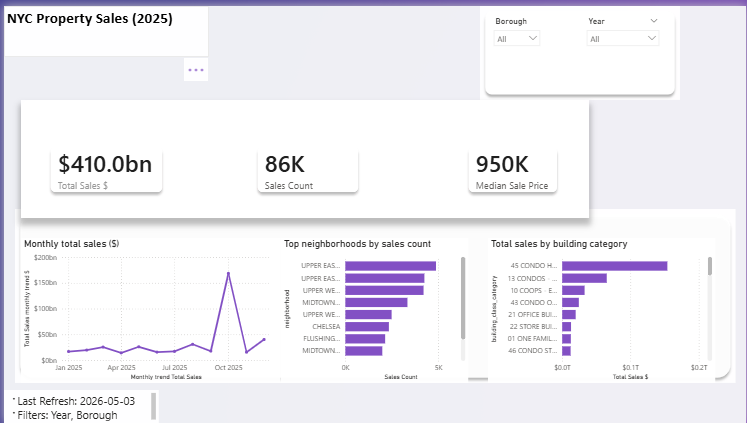

Layout of this report page (visuals, bound fields, positions):
{"tool":"powerbi","page":{"name":"Page 2","canvas":[1280,720],"ordinal":0},"visuals":[{"type":"shape","box":[821.7,0,345,161.7],"z":0},{"type":"shape","box":[18.3,350,1243.3,300],"z":1000},{"type":"shape","box":[30,161.7,980,203.3],"z":2000},{"type":"cardVisual","fields":{"Data":["dw v_sales_fact.Median Sale Price"]},"box":[773.3,213.3,210,136.7],"z":3000},{"type":"cardVisual","fields":{"Data":["dw v_sales_fact.Sales Count"]},"box":[408.3,213.3,231.7,136.7],"z":4000},{"type":"cardVisual","fields":{"Data":["dw v_sales_fact.Total Sales $"]},"box":[51.7,213.3,250,136.7],"z":5000},{"type":"slicer","fields":{"Values":["dw v_sales_fact.year"]},"box":[995,13.3,145,133.3],"z":6000},{"type":"lineChart","title":"Monthly total sales ($)","fields":{"Y":["dw v_sales_fact.Total Sales $"],"Category":["dw v_sales_fact.month_start.Variation.Date Hierarchy.Year","dw v_sales_fact.month_start.Variation.Date Hierarchy.Quarter","dw v_sales_fact.month_start.Variation.Date Hierarchy.Month","dw v_sales_fact.month_start.Variation.Date Hierarchy.Day"]},"box":[30,400,448.3,250],"z":7000},{"type":"barChart","title":"Total sales by building category","fields":{"Y":["dw v_sales_fact.Total Sales $"],"Category":["dw v_sales_fact.building_class_category"]},"box":[835,400,391.7,250],"z":8000},{"type":"textbox","box":[0,0,353.3,88.3],"z":9000},{"type":"slicer","fields":{"Values":["dw v_sales_fact.borough"]},"box":[835,13.3,100,133.3],"z":10000},{"type":"barChart","title":"Top neighborhoods by sales count","fields":{"Category":["dw v_sales_fact.neighborhood"],"Y":["dw v_sales_fact.Sales Count"]},"box":[478.3,400,323.3,250],"z":11000},{"type":"textbox","box":[0,661.7,266.7,58.3],"z":12000}]}

Visuals, with their boxes in screenshot pixels (x1, y1, x2, y2), scaled from the page's 1280x720 canvas onto the 747x423 screenshot:
shape: (480,0,681,95)
shape: (11,206,736,382)
shape: (18,95,589,214)
cardVisual - dw v_sales_fact.Median Sale Price: (451,125,574,206)
cardVisual - dw v_sales_fact.Sales Count: (238,125,374,206)
cardVisual - dw v_sales_fact.Total Sales $: (30,125,176,206)
slicer - dw v_sales_fact.year: (581,8,665,86)
"Monthly total sales ($)" lineChart: (18,235,279,382)
"Total sales by building category" barChart: (487,235,716,382)
textbox: (0,0,206,52)
slicer - dw v_sales_fact.borough: (487,8,546,86)
"Top neighborhoods by sales count" barChart: (279,235,468,382)
textbox: (0,389,156,422)
